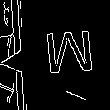M_S: (42, 30, 98, 85)
